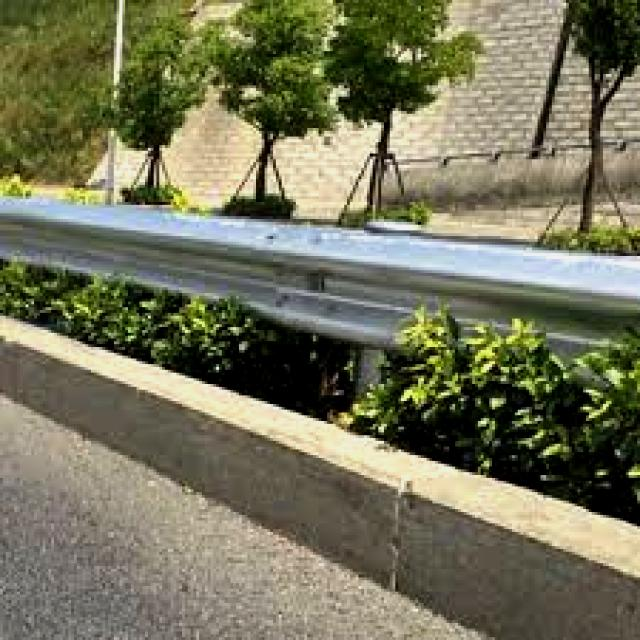Guard rail: (0, 201, 640, 352)
